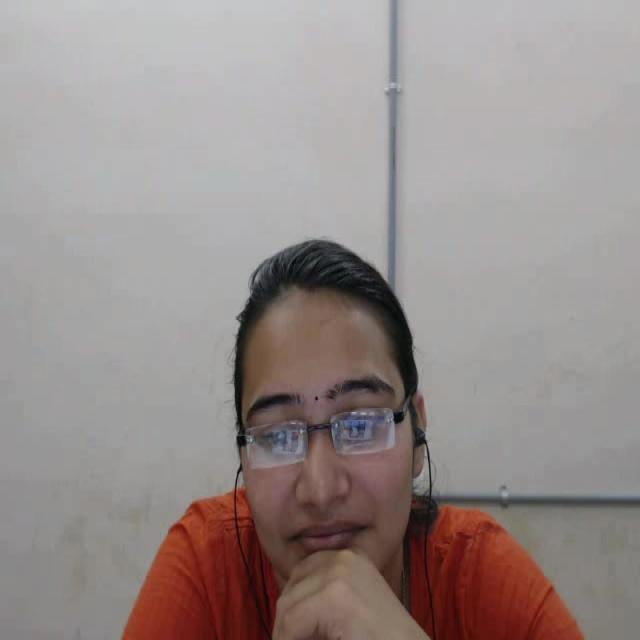Bored: (160, 216, 502, 640)
